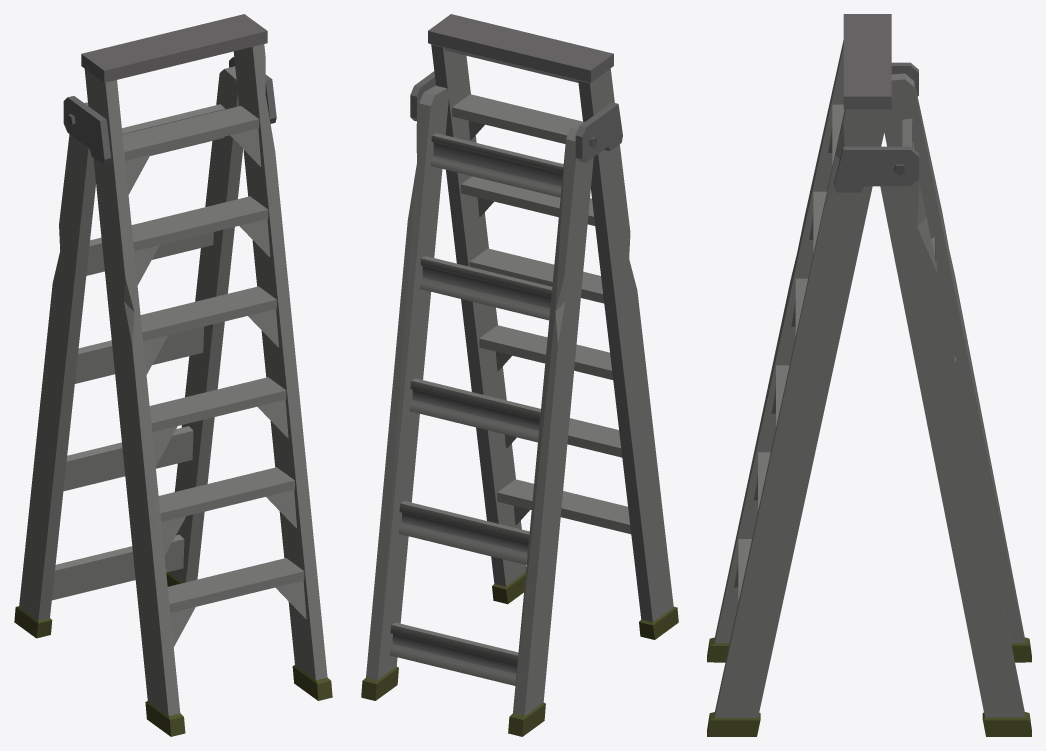
Rendered from SM_Prop_Ladder_Folding_01.fbx.
3 renders of one model, left to right at view 1: azimuth 30°, elevation 25°; view 2: azimuth 150°, elevation 25°; view 3: azimuth 270°, elevation 25°, orthographic. The views are drawn at different scales.
Parts seen in each view (by area): view 1: SM_Prop_Ladder_Folding_01, SM_Prop_Ladder_Folding_Legs_01; view 2: SM_Prop_Ladder_Folding_Legs_01, SM_Prop_Ladder_Folding_01; view 3: SM_Prop_Ladder_Folding_01, SM_Prop_Ladder_Folding_Legs_01.
Boxes of the visible parts, x1=… form: SM_Prop_Ladder_Folding_01: x1=63, y1=14, x2=332, y2=736; SM_Prop_Ladder_Folding_Legs_01: x1=14, y1=66, x2=242, y2=638; SM_Prop_Ladder_Folding_Legs_01: x1=361, y1=85, x2=593, y2=736; SM_Prop_Ladder_Folding_01: x1=410, y1=14, x2=678, y2=639; SM_Prop_Ladder_Folding_01: x1=707, y1=14, x2=918, y2=736; SM_Prop_Ladder_Folding_Legs_01: x1=880, y1=73, x2=1031, y2=736.
Bounding box in the file's own units: 73.74 × 243 × 112.
